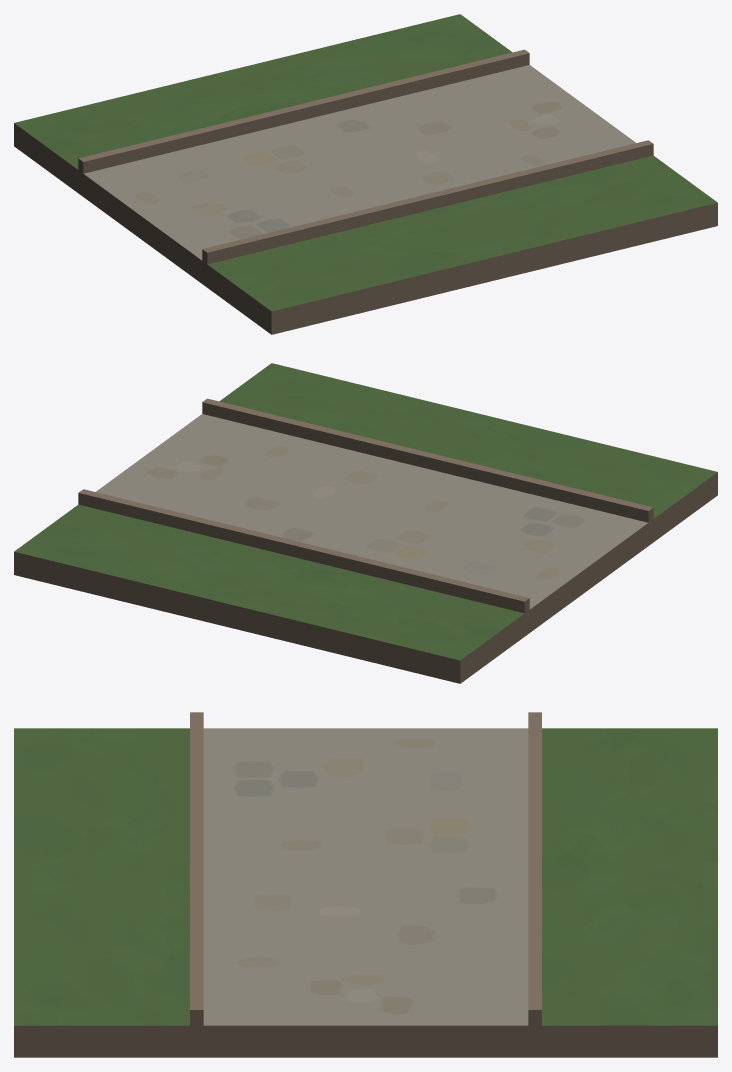
The model's file is Road_01.fbx.
3 renders of one model, top to bottom at view 1: azimuth 30°, elevation 25°; view 2: azimuth 150°, elevation 25°; view 3: azimuth 270°, elevation 25°, orthographic. The views are drawn at different scales.
Parts seen in each view (by area): view 1: Road_01; view 2: Road_01; view 3: Road_01.
Boxes of the visible parts, x1,y1,x2,y2 form: Road_01: [14, 14, 717, 334]; Road_01: [14, 363, 717, 683]; Road_01: [14, 712, 717, 1057].
Bounding box in the file's own units: 400 × 30 × 400.
1 material, 1 textured.
